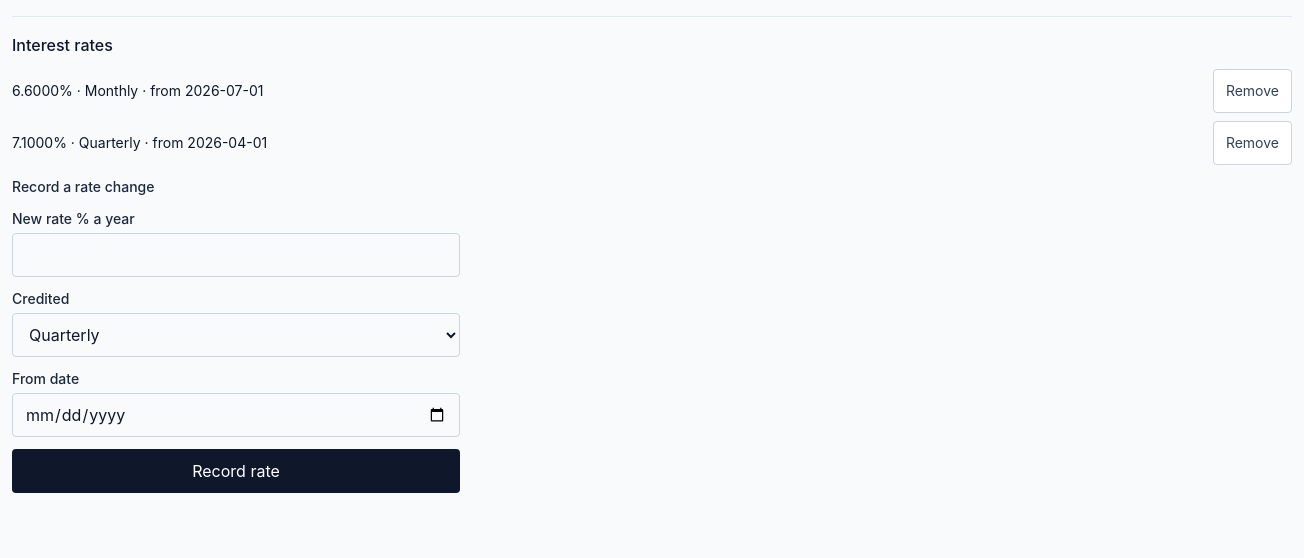
RateHistory › demands both a rate and a date
Expected: the text "6.6000% · Monthly · from 2026-07-01" is shown, top-left (12, 81), bottom-right (264, 101)
Click the button "Record rate" at (236, 471), box top-left (12, 449), bottom-right (460, 493)
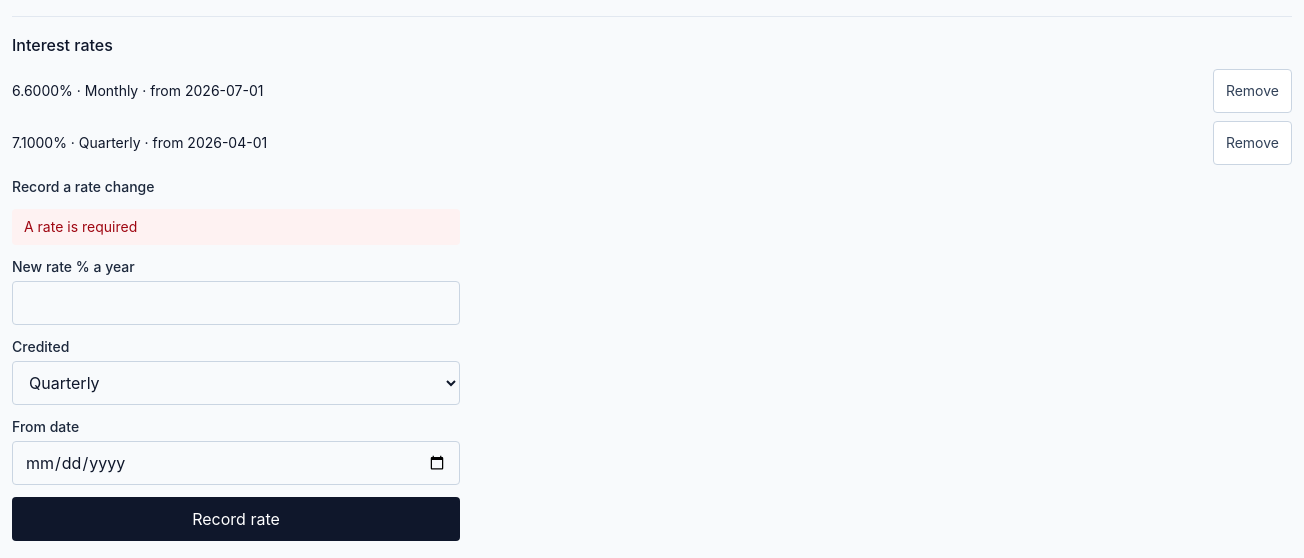
Expected: the text "A rate is required" is shown, top-left (12, 209), bottom-right (460, 245)
Type "7.25" into the field labelled "New rate % a year" at (236, 303), box top-left (12, 281), bottom-right (460, 325)
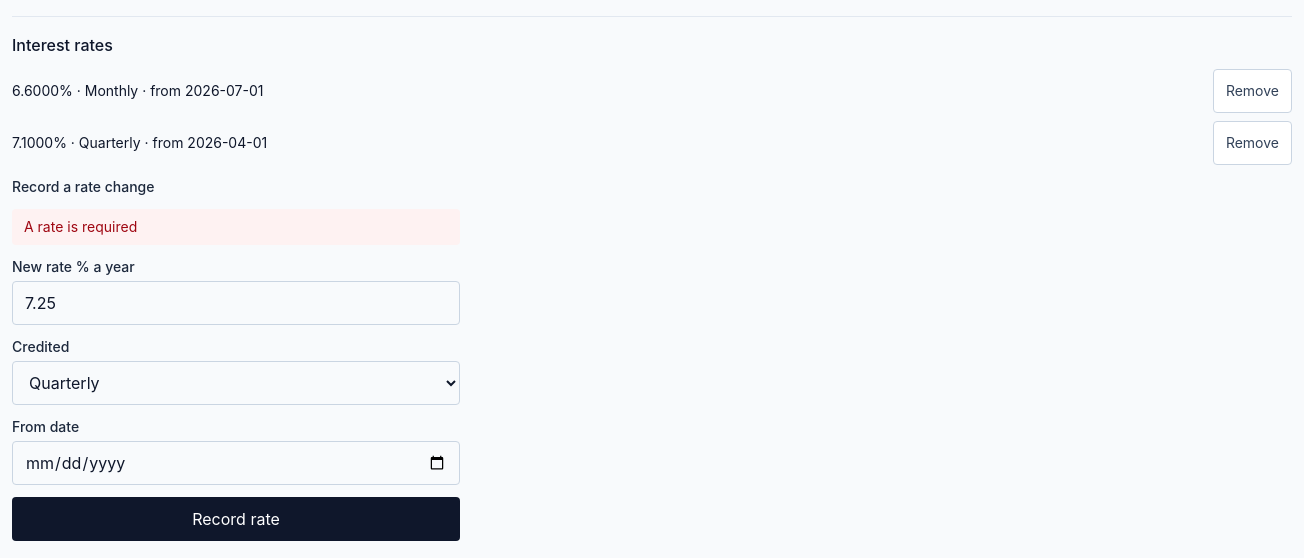
Click the button "Record rate" at (236, 519), box top-left (12, 497), bottom-right (460, 541)
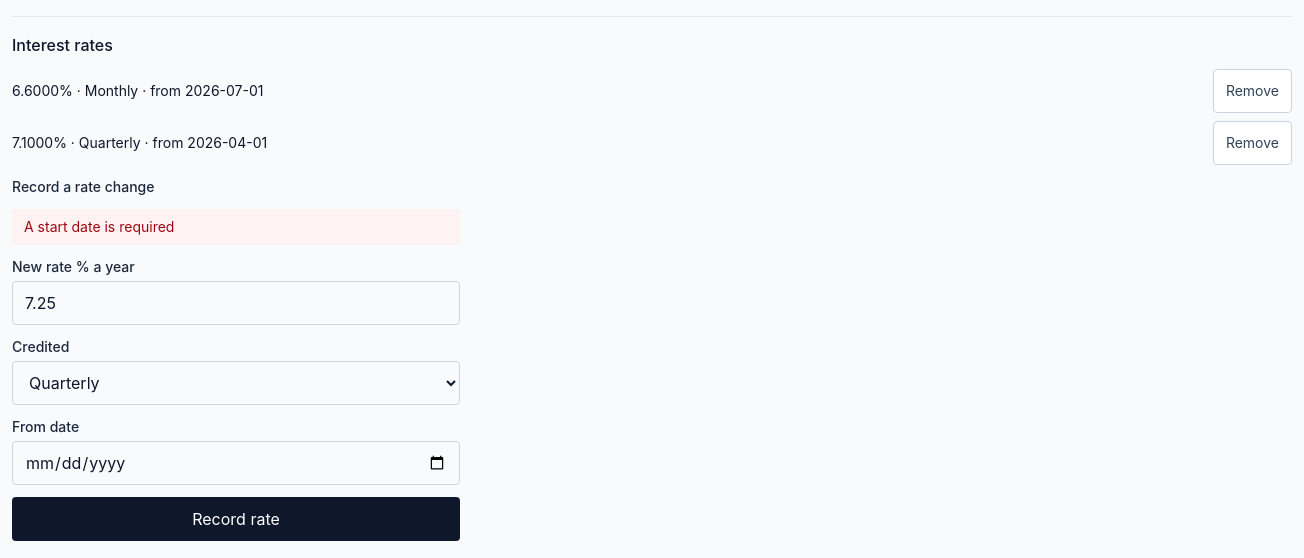
Expected: the text "A start date is required" is shown, top-left (12, 209), bottom-right (460, 245)
